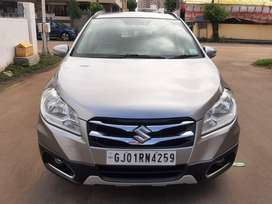GJ01RN4259: (107, 150, 176, 165)
